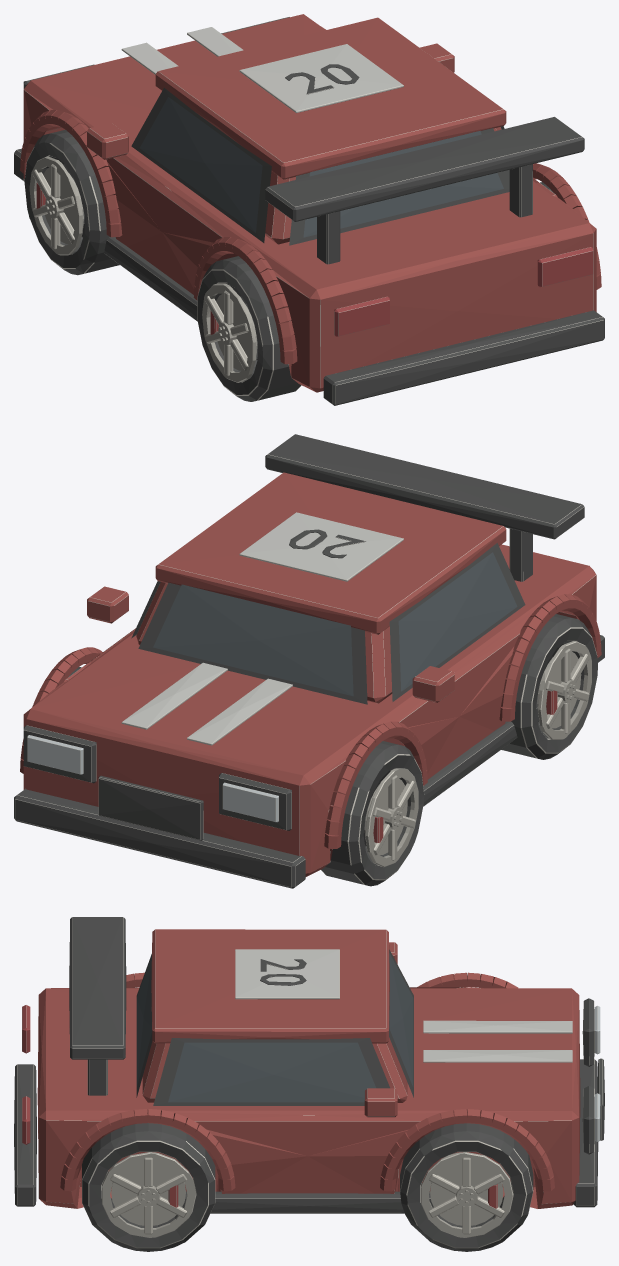
The model's file is car_speed.glb.
The picture shows the model from 3 angles, top to bottom: view 1: azimuth 30°, elevation 25°; view 2: azimuth 150°, elevation 25°; view 3: azimuth 270°, elevation 25°; orthographic projection. The views are drawn at different scales.
Parts seen in each view (by area): view 1: Body, WheelMesh.002, WheelMesh; view 2: Body, WheelMesh, WheelMesh.002; view 3: Body, WheelMesh.003, WheelMesh.001.
Part boxes in pixels (left/top/right/bottom): Body: left=14, top=14, right=604, bottom=405; WheelMesh.002: left=197, top=256, right=301, bottom=401; WheelMesh: left=24, top=129, right=119, bottom=275; Body: left=14, top=434, right=604, bottom=888; WheelMesh: left=321, top=741, right=424, bottom=886; WheelMesh.002: left=501, top=614, right=597, bottom=759; Body: left=14, top=917, right=604, bottom=1213; WheelMesh.003: left=82, top=1123, right=215, bottom=1251; WheelMesh.001: left=400, top=1123, right=533, bottom=1251.
Bounding box in the file's own units: 2.64 × 1.62 × 4.17.
